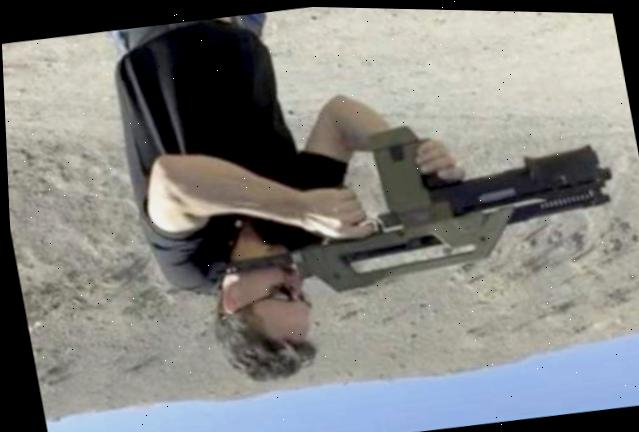rifle: (174, 80, 639, 369)
